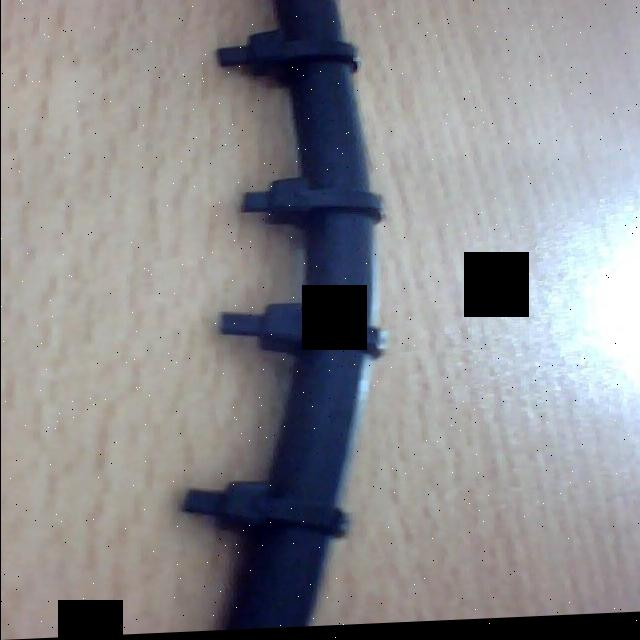cable-tie: (180, 483, 349, 544), (215, 305, 385, 364), (238, 179, 384, 233)
